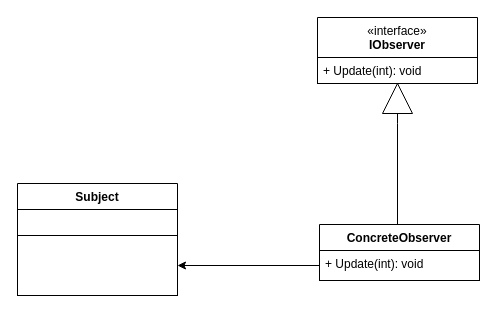
Image size: 497x316. Some labels were removed from this diagram. The shapes that lost their labels are listed below. From the top down, each one's centre as x and y in pixels, then its label:
pixel 97 222: - observers: List Observers
pixel 97 265: + Attach(IObserver): void + Detach(IObserver): void + Notify(): void
